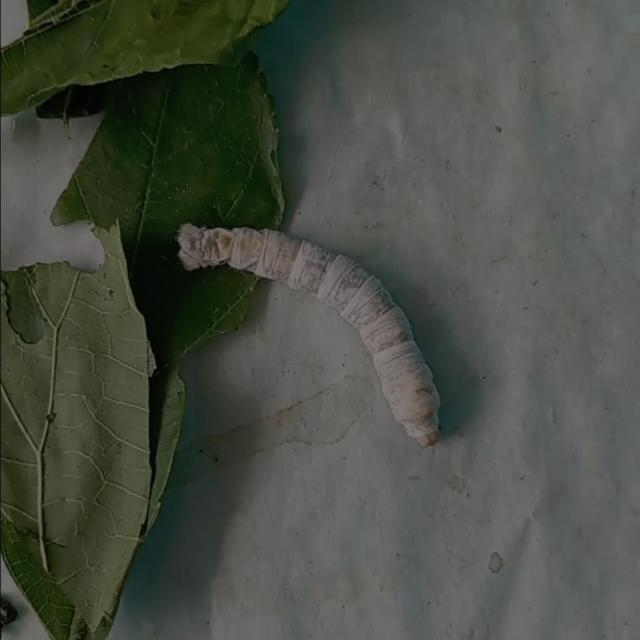Grasserie: (169, 209, 449, 464)
